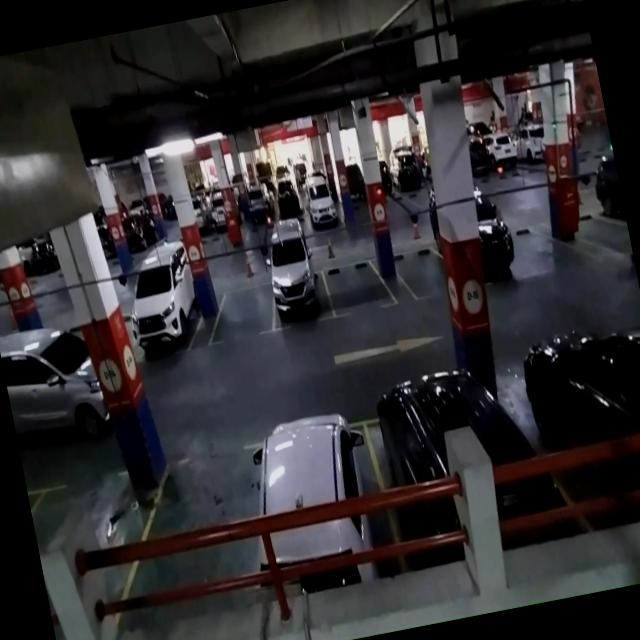car: (360, 364, 550, 566), (240, 406, 396, 602), (119, 251, 205, 364), (260, 236, 334, 334)
free: (117, 444, 280, 624), (200, 279, 278, 349), (321, 252, 398, 321), (393, 240, 450, 306)
